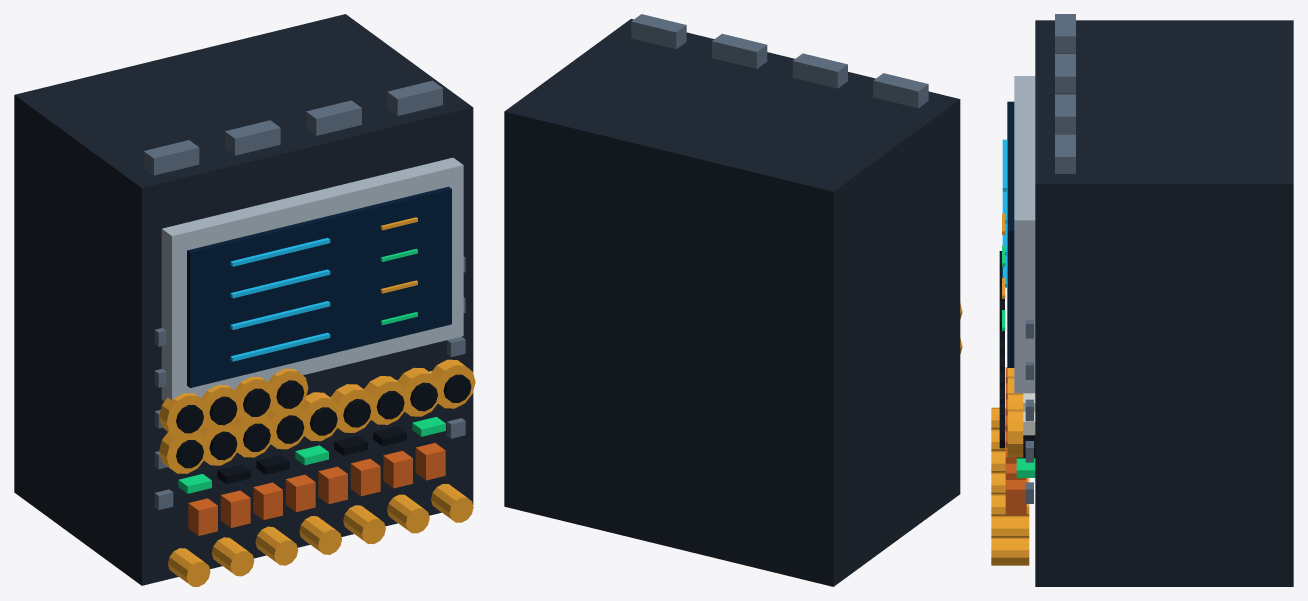
File: 75_L87_RotorMotorControlPLC.fbx
3 renders of one model, left to right at view 1: azimuth 30°, elevation 25°; view 2: azimuth 150°, elevation 25°; view 3: azimuth 270°, elevation 25°, orthographic.
Parts seen in each view (by area): view 1: L87_RotorMotorControlPLC, L87_RotorMotorControlPLC_Part_0010, L87_RotorMotorControlPLC_Part_0028, L87_RotorMotorControlPLC_Part_0026, L87_RotorMotorControlPLC_Part_0020, L87_RotorMotorControlPLC_Part_0024, L87_RotorMotorControlPLC_Part_0022, L87_RotorMotorControlPLC_Part_0018, L87_RotorMotorControlPLC_Part_0034, L87_RotorMotorControlPLC_Part_0030, L87_RotorMotorControlPLC_Part_0016, L87_RotorMotorControlPLC_Part_0012 (+15 smaller); view 2: L87_RotorMotorControlPLC; view 3: L87_RotorMotorControlPLC, L87_RotorMotorControlPLC_Part_0026.
Part boxes in pixels (bbox=[...]): L87_RotorMotorControlPLC: bbox=[14, 14, 473, 586]; L87_RotorMotorControlPLC_Part_0010: bbox=[159, 431, 207, 473]; L87_RotorMotorControlPLC_Part_0028: bbox=[159, 393, 207, 437]; L87_RotorMotorControlPLC_Part_0026: bbox=[431, 359, 475, 408]; L87_RotorMotorControlPLC_Part_0020: bbox=[330, 384, 370, 432]; L87_RotorMotorControlPLC_Part_0024: bbox=[397, 367, 437, 416]; L87_RotorMotorControlPLC_Part_0022: bbox=[364, 376, 404, 424]; L87_RotorMotorControlPLC_Part_0018: bbox=[299, 392, 337, 441]; L87_RotorMotorControlPLC_Part_0034: bbox=[268, 368, 308, 414]; L87_RotorMotorControlPLC_Part_0030: bbox=[201, 385, 241, 430]; L87_RotorMotorControlPLC_Part_0016: bbox=[266, 406, 307, 449]; L87_RotorMotorControlPLC_Part_0012: bbox=[199, 422, 241, 465]; L87_RotorMotorControlPLC: bbox=[504, 14, 960, 586]; L87_RotorMotorControlPLC: bbox=[991, 14, 1293, 586]; L87_RotorMotorControlPLC_Part_0026: bbox=[1007, 409, 1023, 457].
Size of the model in its own units: 104 by 124 by 81.09.
